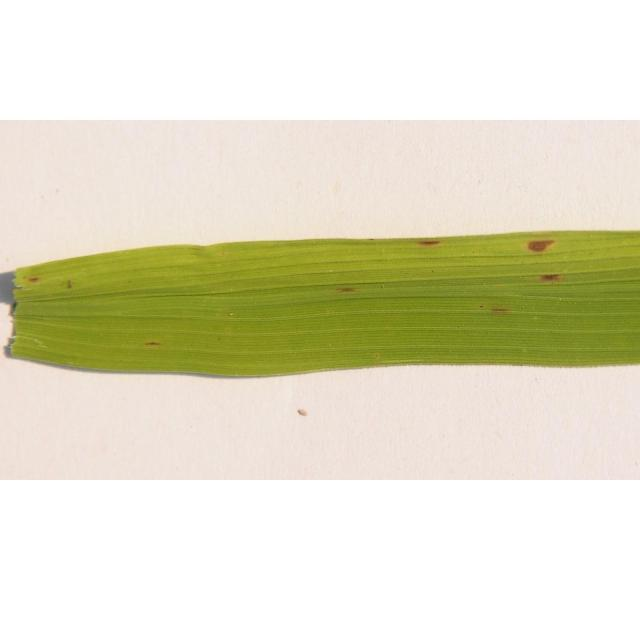Brown spot: (502, 232, 564, 261), (408, 235, 456, 263), (484, 294, 524, 322), (528, 266, 582, 286), (139, 324, 172, 356), (334, 276, 376, 301), (18, 265, 49, 293)
